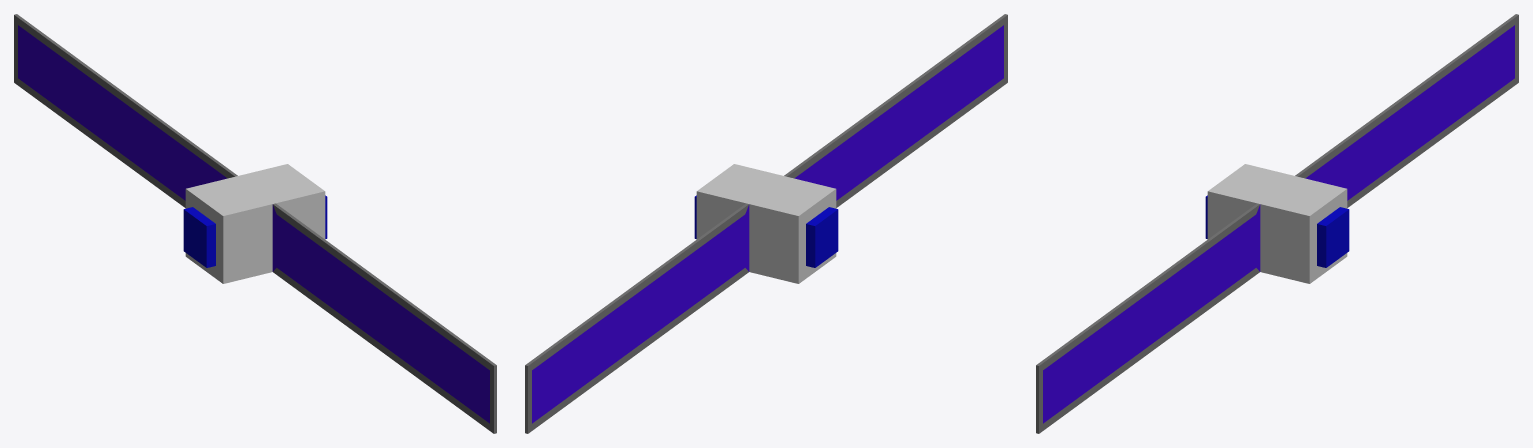
The model's file is Solar_Large.obj.
3 views of the same model, side by side, from view 1: azimuth 30°, elevation 25°; view 2: azimuth 150°, elevation 25°; view 3: azimuth 330°, elevation 25° (orthographic).
Parts seen in each view (by area): view 1: Solar_Large_Cube.009; view 2: Solar_Large_Cube.009; view 3: Solar_Large_Cube.009.
Boxes of the visible parts, x1,y1,x2,y2 form: Solar_Large_Cube.009: (14,14,496,433); Solar_Large_Cube.009: (525,14,1007,433); Solar_Large_Cube.009: (1036,14,1518,433).
Bounding box in the file's own units: 1.63 × 0.877 × 11.23.
